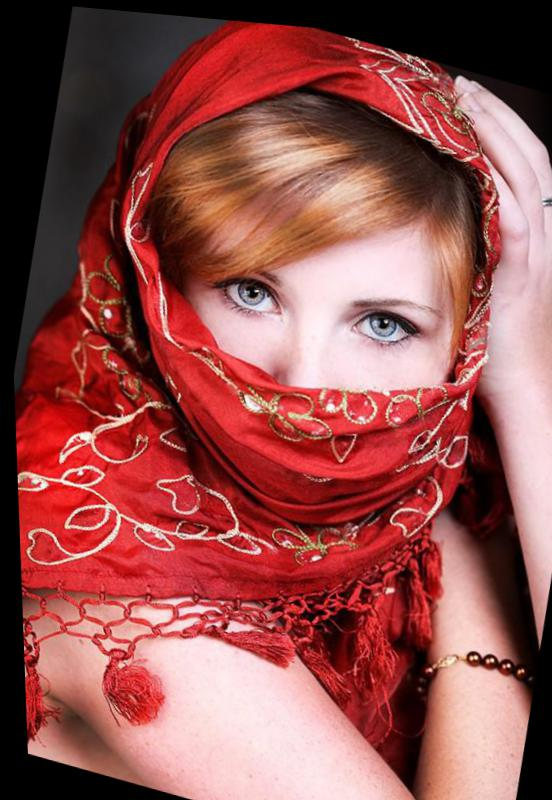WRONG: (139, 201, 475, 557)
